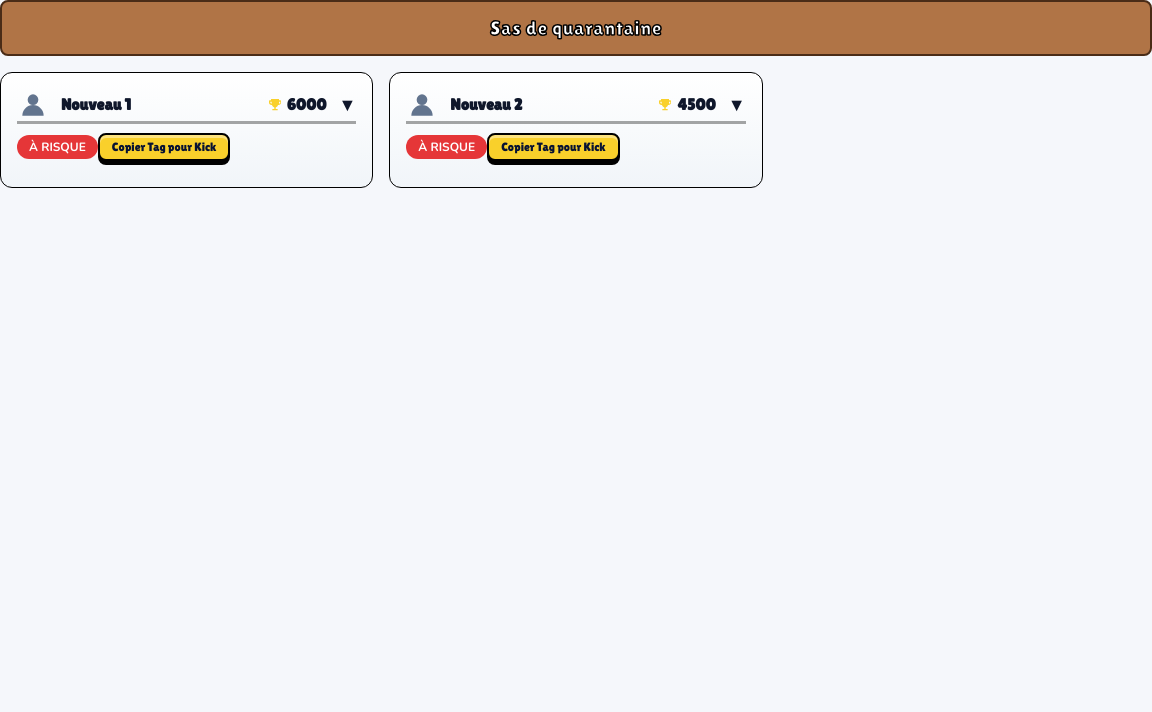
Test: QuarantineSection › ouvre la fiche joueur au clic sur le code du joueur
This screenshot has width=1152, height=712.
// Le tag n'est visible qu'une fois la carte deplie (accordeon).
Click the button "Nouveau 1 6000 ▼": {"x": 33, "y": 105} [17,89,356,121]
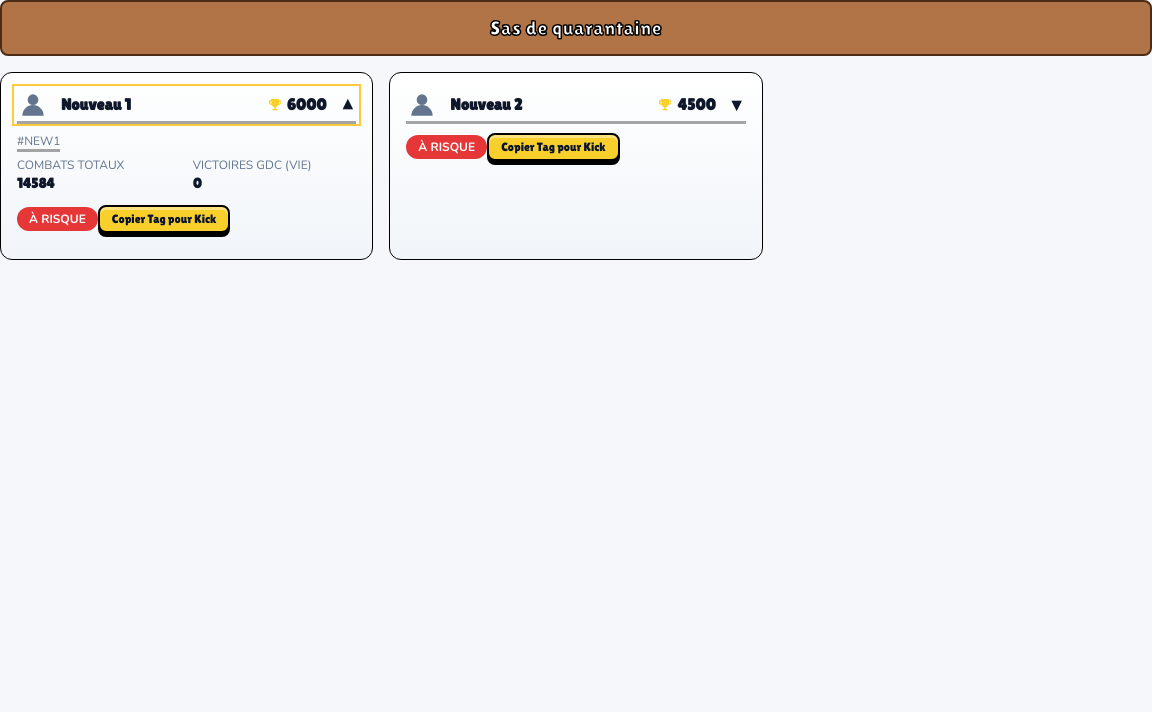
Click the button "#NEW1": {"x": 39, "y": 141} [17,133,60,149]
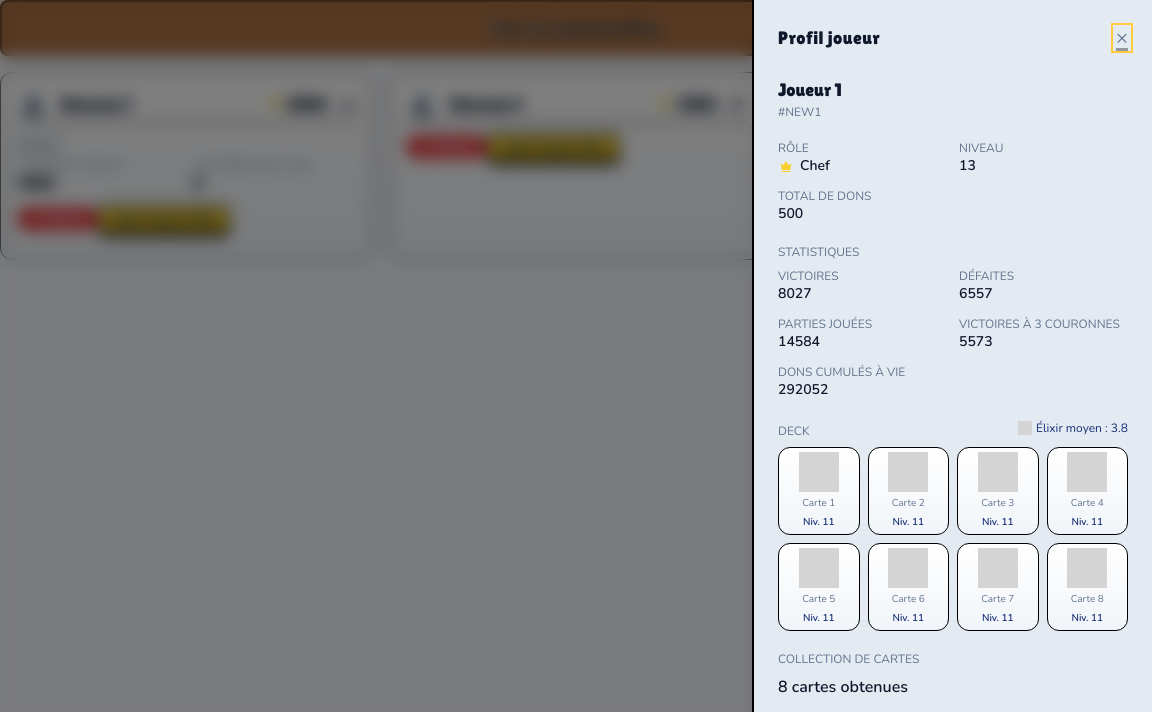
Check: the text "500" is shown, box [778,204,803,223]
